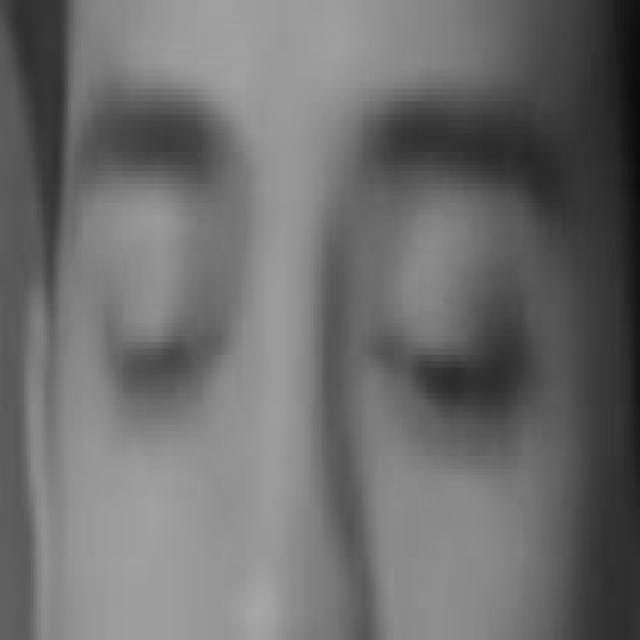real: (84, 155, 558, 493)
